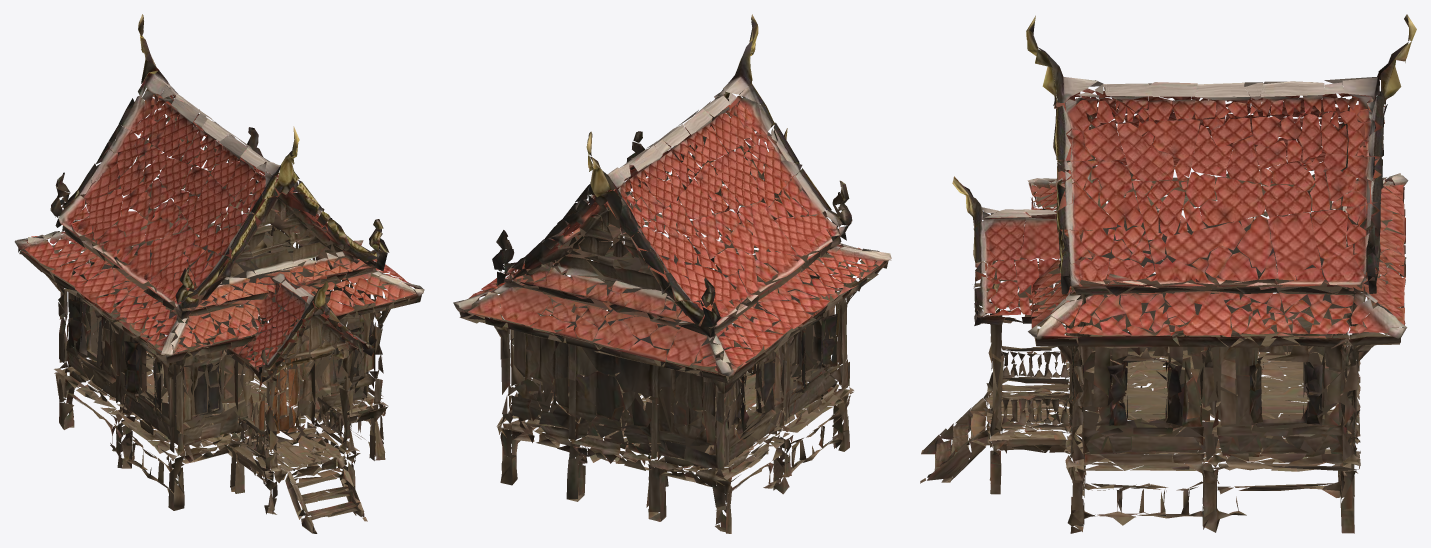
Rendered from ayutthaya_casa.glb.
3 renders of one model, left to right at view 1: azimuth 30°, elevation 25°; view 2: azimuth 150°, elevation 25°; view 3: azimuth 270°, elevation 25°, orthographic. The views are drawn at different scales.
Parts seen in each view (by area): view 1: Mesh_0; view 2: Mesh_0; view 3: Mesh_0.
Boxes of the visible parts, box(x1,y1,x2,y2) form: Mesh_0: box(14, 14, 424, 533); Mesh_0: box(453, 14, 891, 533); Mesh_0: box(920, 14, 1416, 533).
Bounding box in the file's own units: 1.41 × 1.91 × 1.88.
1 material, 1 textured.
